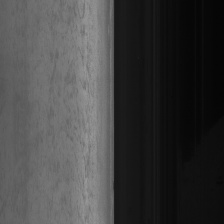silk_spot: (70, 15, 98, 208)
